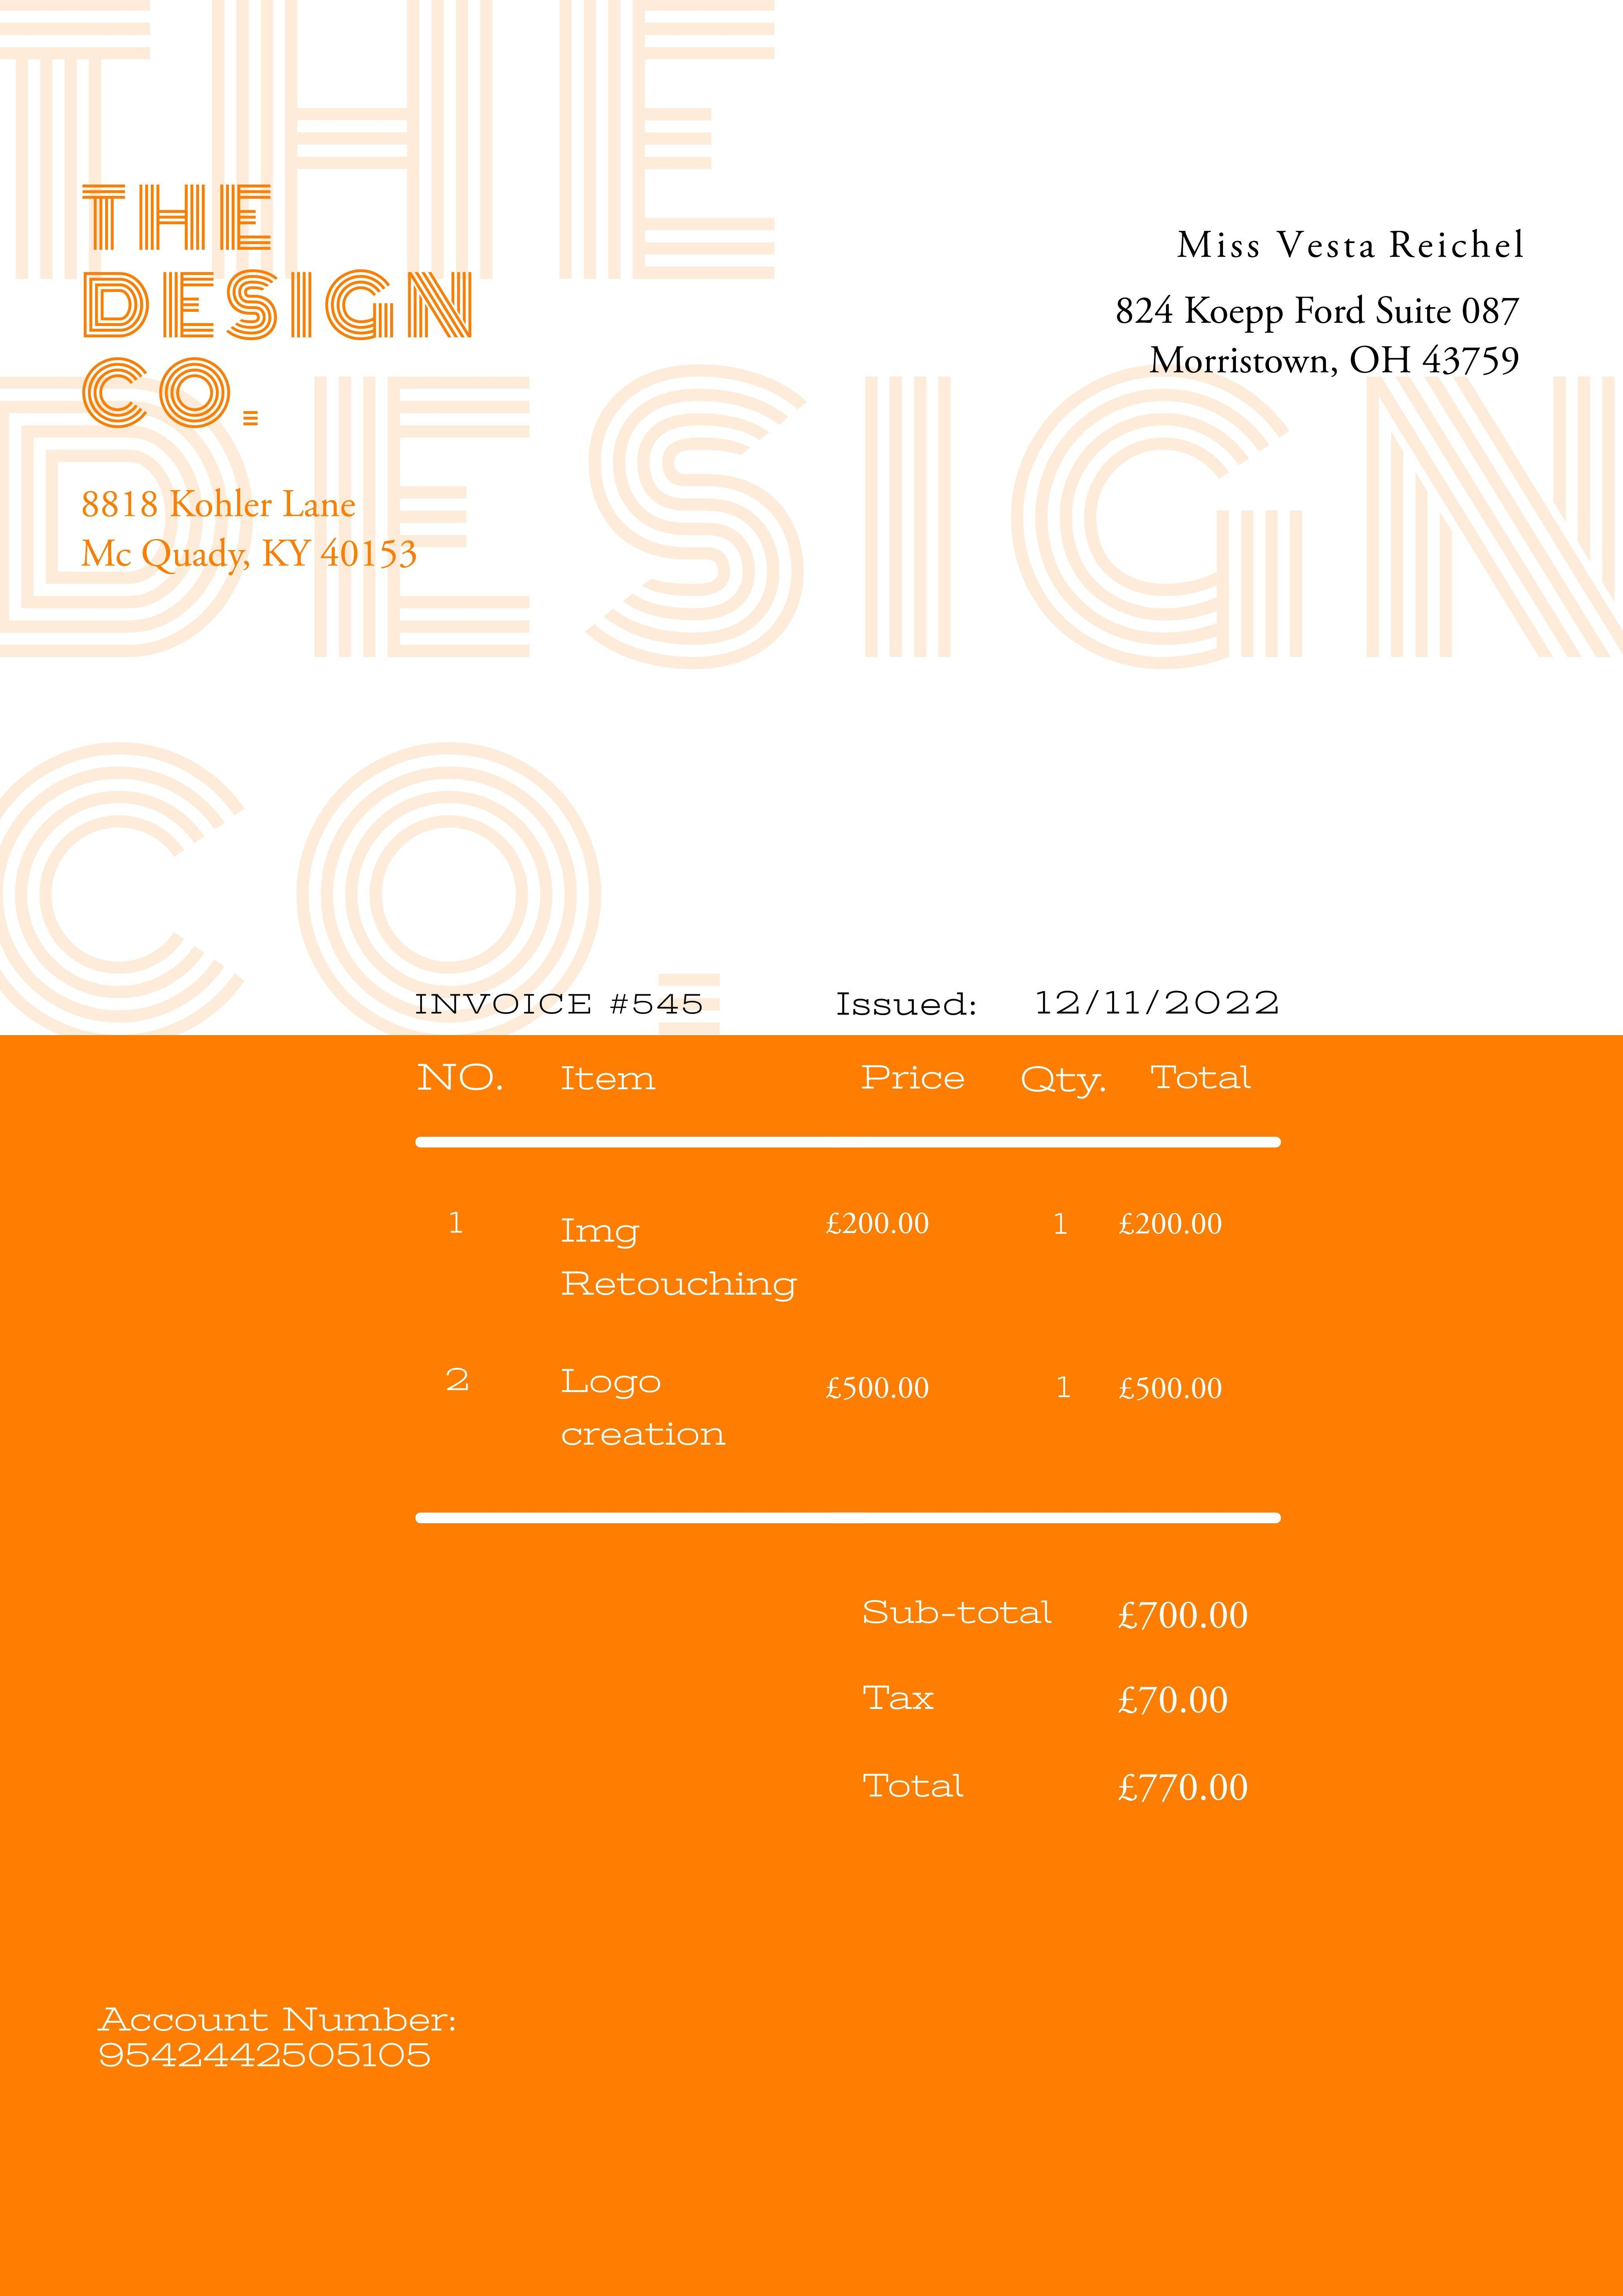ROI: (412, 1045, 1289, 1517), (71, 157, 529, 598), (854, 1584, 1250, 1812), (1116, 189, 1554, 394), (397, 974, 1298, 1034), (73, 1996, 489, 2086)
